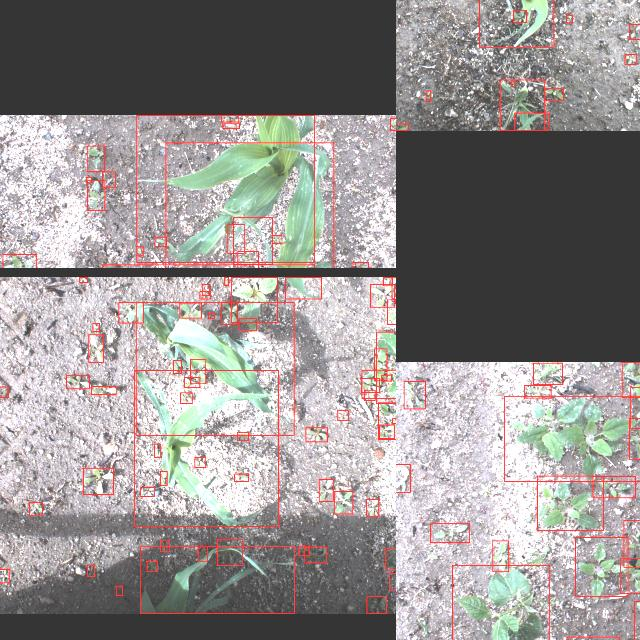crop: (136, 115, 314, 262), (134, 369, 278, 526), (166, 141, 334, 268), (136, 302, 294, 434), (140, 546, 294, 614), (452, 564, 549, 640), (479, 0, 554, 46), (500, 80, 544, 130), (234, 216, 272, 264), (285, 276, 321, 298), (514, 112, 550, 130), (228, 224, 244, 252)
weed: (504, 395, 640, 481), (537, 474, 603, 530), (576, 536, 628, 596), (231, 276, 277, 322), (377, 331, 396, 403), (361, 369, 396, 397), (592, 475, 636, 497), (83, 468, 113, 494), (624, 519, 640, 566), (430, 524, 470, 542), (620, 558, 640, 593), (378, 401, 396, 438), (621, 361, 640, 396), (218, 539, 242, 565), (404, 380, 426, 408), (534, 362, 562, 384), (371, 284, 395, 306), (118, 302, 144, 322), (493, 540, 509, 572), (88, 180, 104, 210), (2, 254, 35, 268), (629, 417, 640, 458), (88, 334, 104, 362), (374, 348, 388, 379), (88, 145, 104, 171), (190, 358, 206, 384), (335, 491, 353, 514), (630, 386, 640, 427), (396, 464, 410, 492), (221, 300, 237, 324), (525, 384, 551, 398), (238, 250, 258, 268), (367, 596, 387, 614), (304, 547, 326, 563), (66, 374, 90, 388), (180, 302, 202, 316), (319, 479, 333, 501), (306, 427, 326, 441), (362, 378, 380, 392), (544, 88, 564, 100), (385, 548, 396, 569), (387, 298, 396, 323), (102, 171, 116, 187), (367, 498, 379, 516), (380, 424, 394, 438), (92, 386, 116, 394), (240, 318, 256, 330), (184, 377, 200, 387), (198, 545, 208, 561), (630, 24, 640, 39), (514, 10, 526, 22), (30, 502, 42, 514), (140, 486, 154, 496), (0, 569, 9, 583), (624, 54, 636, 64), (180, 392, 192, 402), (194, 457, 206, 467), (160, 540, 170, 552), (389, 572, 396, 589), (222, 115, 238, 122), (235, 473, 249, 481), (222, 122, 240, 128), (155, 237, 167, 246), (147, 561, 157, 571), (365, 389, 375, 399), (338, 410, 348, 420), (299, 545, 309, 555), (160, 471, 167, 485), (353, 262, 369, 268), (173, 360, 181, 372), (238, 432, 248, 441), (383, 276, 392, 286), (396, 123, 408, 130), (272, 235, 282, 243), (202, 284, 210, 294), (200, 290, 210, 298), (390, 116, 396, 129), (0, 385, 7, 396), (88, 565, 94, 577), (155, 444, 161, 456), (92, 323, 100, 331), (116, 586, 122, 596), (381, 374, 391, 380), (137, 247, 143, 256), (566, 15, 572, 23), (426, 90, 430, 102), (80, 276, 88, 282), (86, 176, 92, 182), (209, 312, 215, 318), (224, 276, 228, 284), (392, 417, 396, 422), (512, 82, 514, 86)
